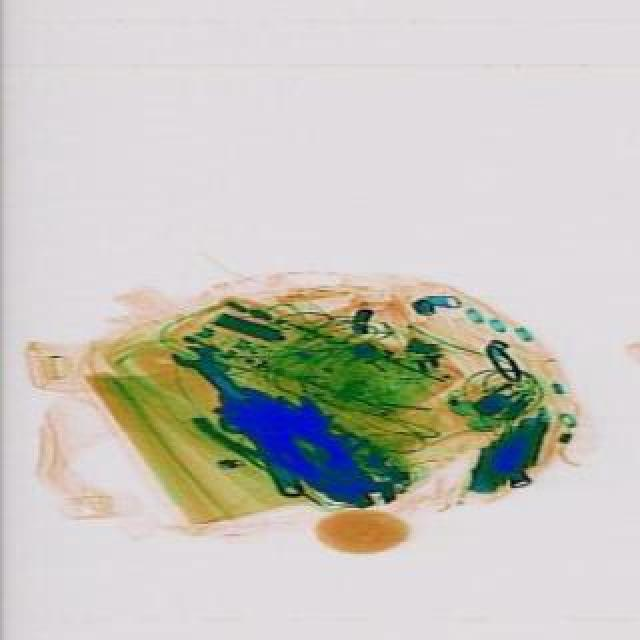scissors: (166, 334, 256, 418)
